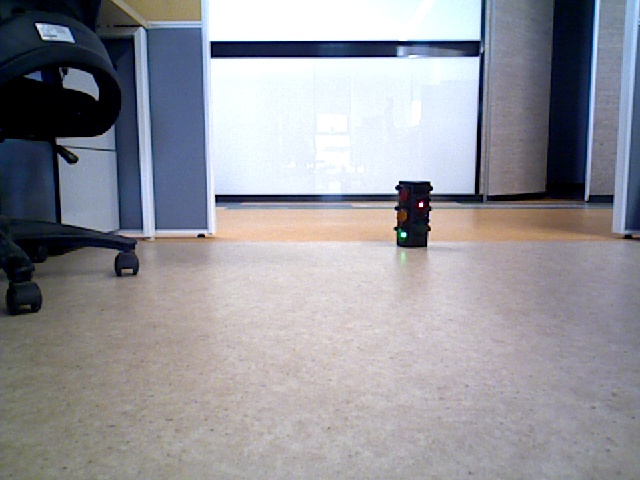green: (397, 184, 425, 241)
